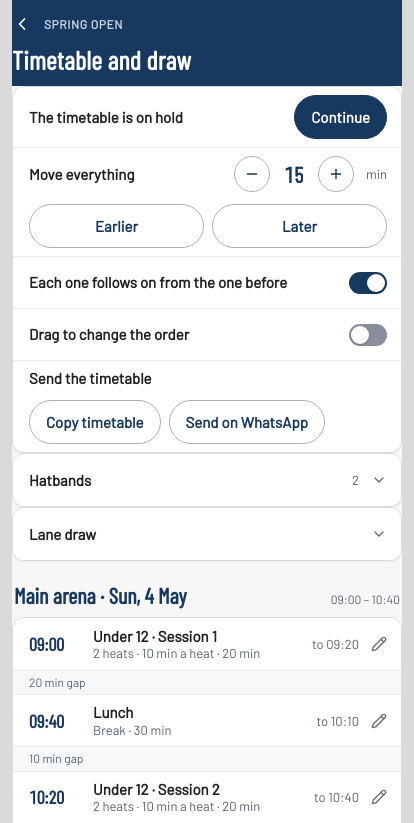
TimetablePage › offers to continue a timetable that was put on hold, and only then
The width and height of the screenshot is (414, 823).
expect the button "Earlier" is shown: met, box [29,204,204,248]
expect the text "The timetable is on hold" is shown: met, box [29,108,183,126]
Click the button "Continue" at (341, 117), box [294,95,387,139]
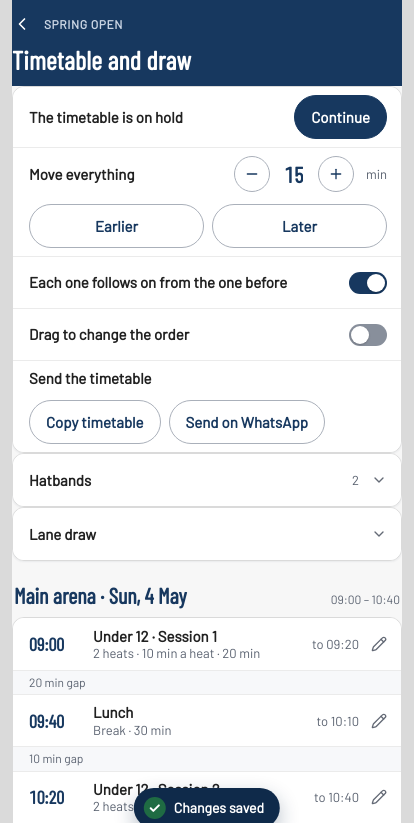
Click the button "Continue" at (341, 117), box [294,95,387,139]
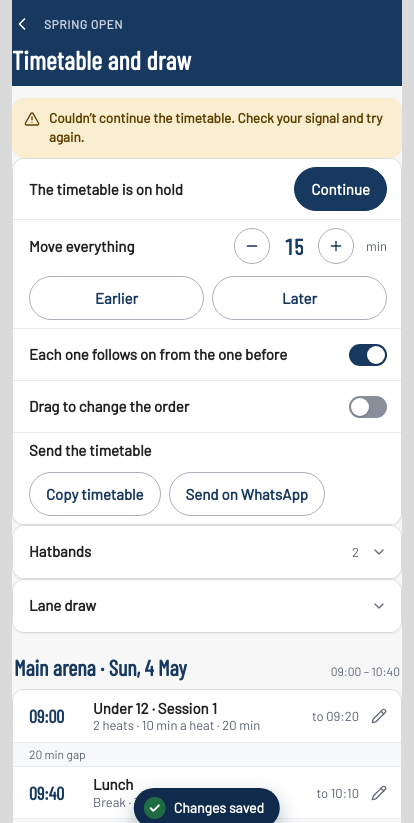
expect the text "Couldn’t continue the timetable" is shown: met, box [49,109,382,145]
